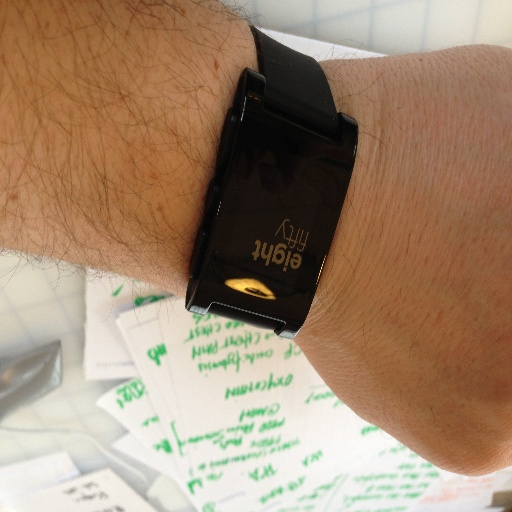hand: (295, 43, 511, 479)
